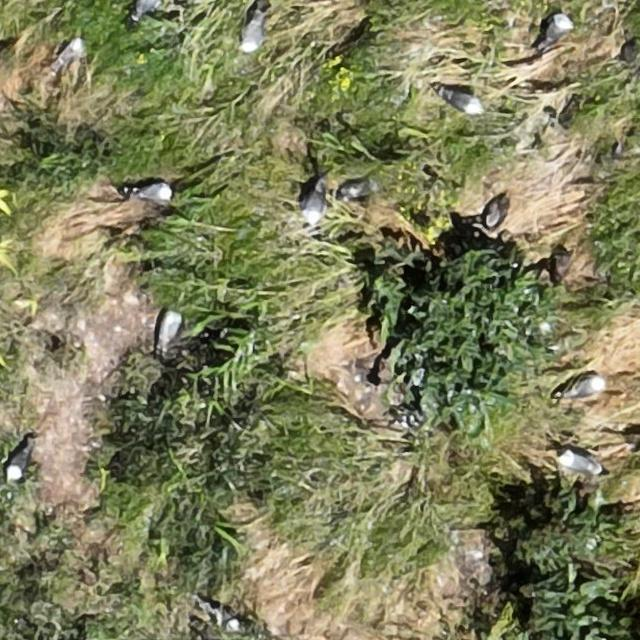umineko: (544, 14, 572, 47), (443, 90, 480, 112), (561, 452, 599, 473), (158, 314, 180, 347), (304, 190, 325, 224), (8, 448, 29, 480), (136, 184, 172, 202), (244, 18, 264, 50), (569, 377, 602, 396), (56, 40, 80, 66), (134, 0, 160, 16)
